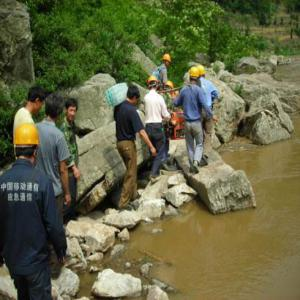none: (46, 92, 65, 124), (27, 85, 46, 117), (66, 97, 80, 122), (127, 86, 141, 106)
yellow: (15, 123, 39, 165), (189, 67, 200, 87), (148, 75, 160, 93), (164, 54, 173, 68), (166, 81, 174, 95), (199, 67, 207, 81)
